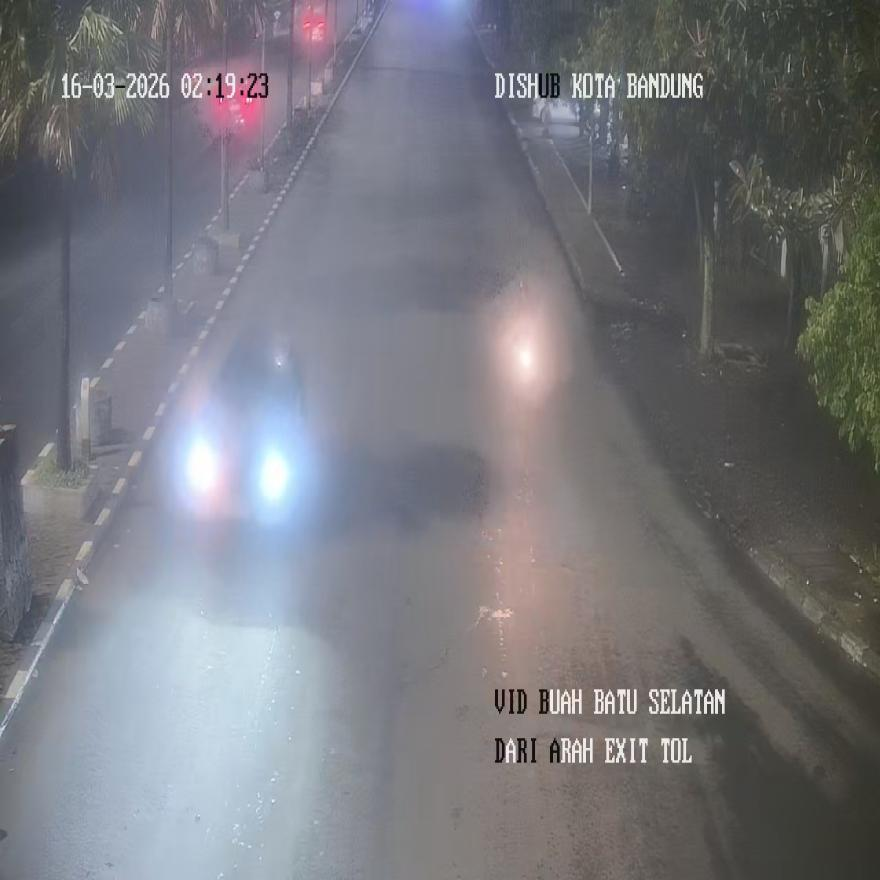Motor: (184, 328, 309, 528)
